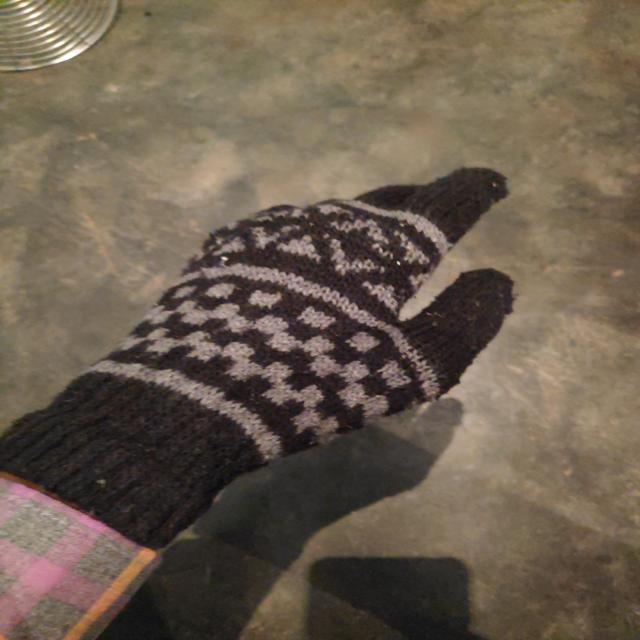glove_hand: (2, 160, 521, 552)
